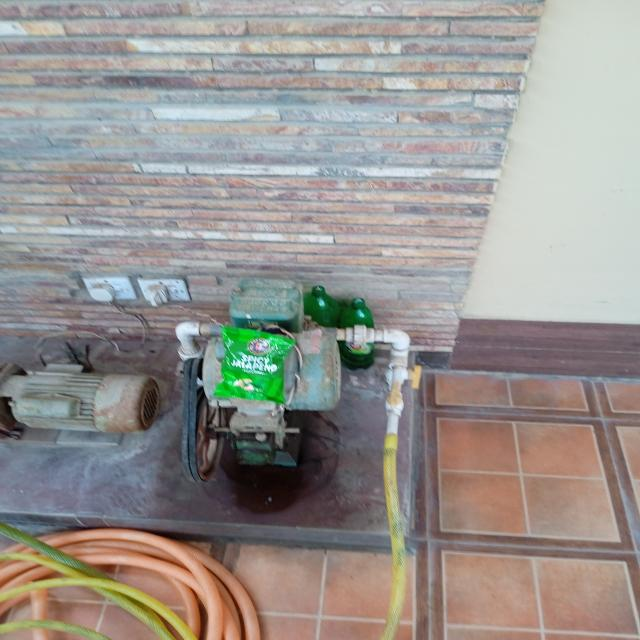Plastic: (212, 322, 298, 405)
